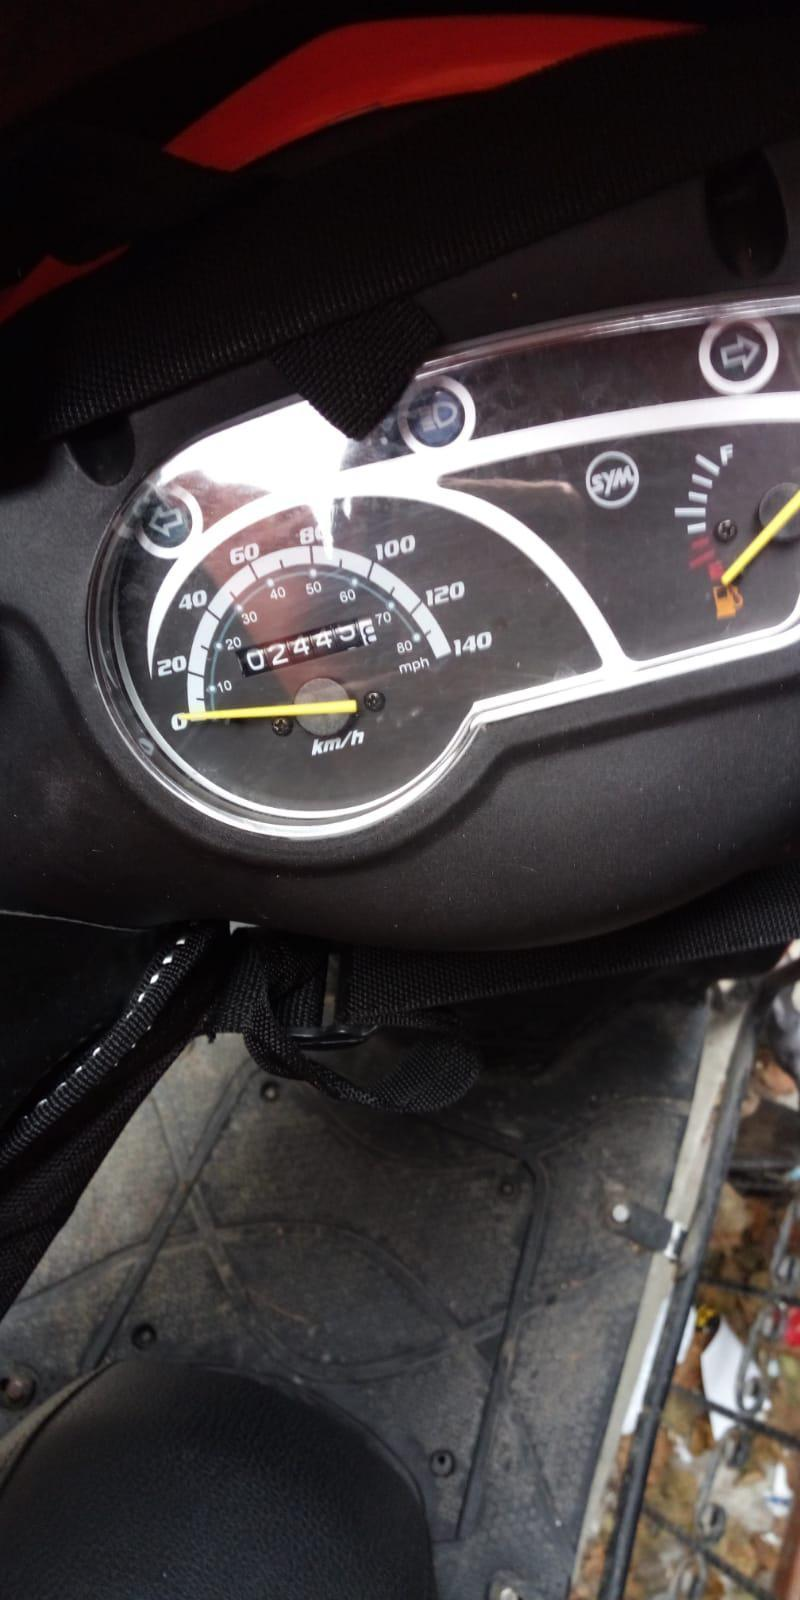0: (245, 646, 264, 671), (232, 636, 241, 648), (249, 610, 257, 622)
2: (266, 642, 289, 666)
3: (240, 613, 249, 624)
4: (315, 626, 332, 649), (292, 634, 309, 655)
5: (336, 618, 355, 641)
8: (362, 624, 377, 644)
odometer: (234, 616, 378, 680)
